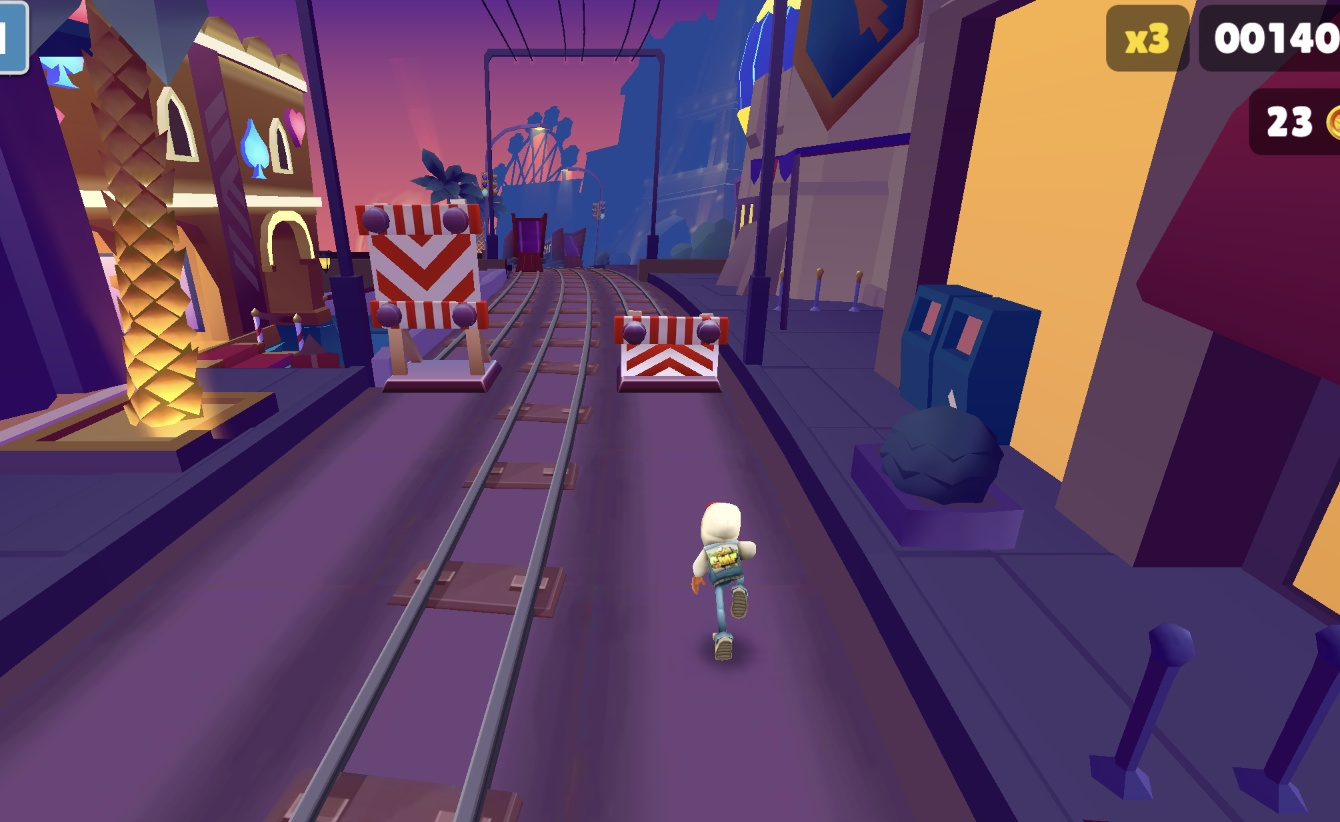ground_barrier: (611, 314, 735, 397)
overhead_barrier: (362, 190, 496, 398)
train: (508, 211, 550, 273), (554, 225, 585, 267)
